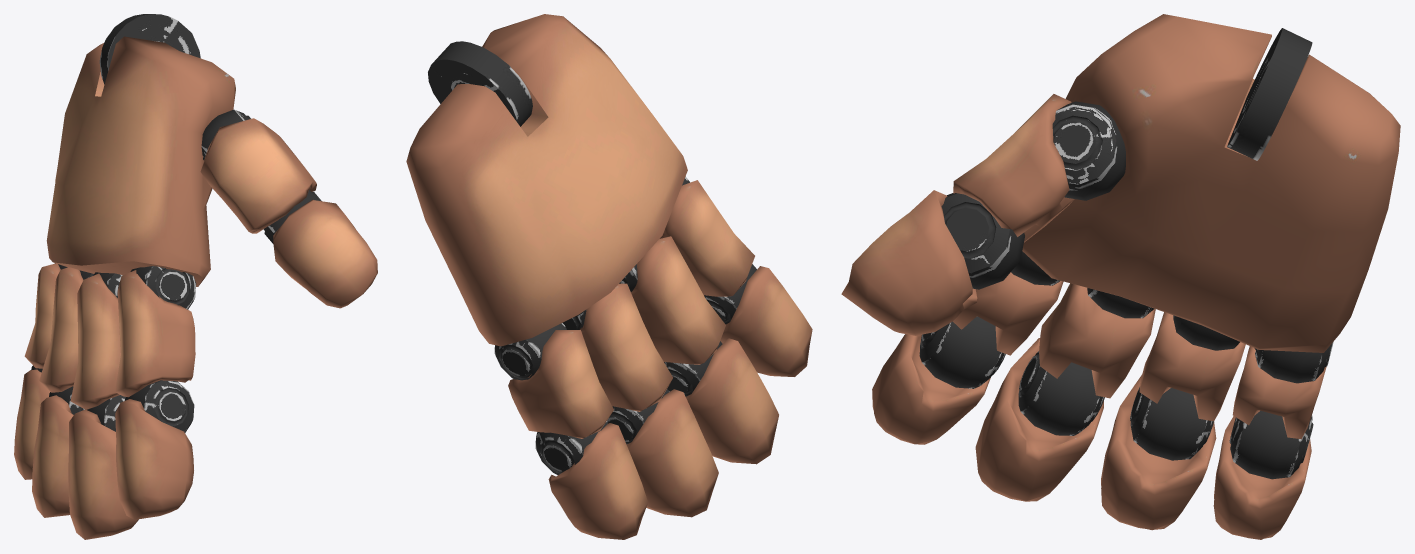
File: handR.fbx
3 views of the same model, side by side, from view 1: azimuth 30°, elevation 25°; view 2: azimuth 150°, elevation 25°; view 3: azimuth 270°, elevation 25° (orthographic). The views are drawn at different scales.
Visible parts, largest first — view 1: matte_0.008, matte_22.002, matte_11.002, matte_21.002, matte_12.002, matte_32.002, matte_31.002, matte_42.002, matte_41.002, matte_52.002, matte_51.002; view 2: matte_0.008, matte_51.002, matte_52.002, matte_42.002, matte_32.002, matte_31.002, matte_41.002, matte_22.002, matte_21.002; view 3: matte_0.008, matte_12.002, matte_11.002, matte_32.002, matte_42.002, matte_22.002, matte_52.002, matte_31.002, matte_41.002, matte_51.002, matte_21.002.
Boxes of the visible parts, <box> form: matte_0.008: <box>46,14,235,286</box>; matte_22.002: <box>115,380,194,519</box>; matte_11.002: <box>200,109,316,233</box>; matte_21.002: <box>115,266,196,397</box>; matte_12.002: <box>263,190,377,308</box>; matte_32.002: <box>68,395,138,539</box>; matte_31.002: <box>70,272,122,409</box>; matte_42.002: <box>32,386,84,517</box>; matte_41.002: <box>39,267,93,392</box>; matte_52.002: <box>14,365,50,479</box>; matte_51.002: <box>24,263,67,368</box>; matte_0.008: <box>406,14,687,346</box>; matte_51.002: <box>494,323,613,438</box>; matte_52.002: <box>535,421,648,539</box>; matte_42.002: <box>607,389,718,517</box>; matte_32.002: <box>664,338,778,464</box>; matte_31.002: <box>619,236,725,364</box>; matte_41.002: <box>562,283,672,411</box>; matte_22.002: <box>704,264,812,376</box>; matte_21.002: <box>660,176,754,296</box>; matte_0.008: <box>1022,14,1400,352</box>; matte_12.002: <box>841,190,1024,335</box>; matte_11.002: <box>953,94,1125,242</box>; matte_32.002: <box>975,338,1104,501</box>; matte_42.002: <box>1101,375,1216,530</box>; matte_22.002: <box>872,316,1005,444</box>; matte_52.002: <box>1213,410,1313,539</box>; matte_31.002: <box>1039,283,1155,398</box>; matte_41.002: <box>1139,312,1245,421</box>; matte_51.002: <box>1232,342,1333,439</box>; matte_21.002: <box>953,251,1063,355</box>.
Bounding box in the file's own units: 329 × 475 × 535.
